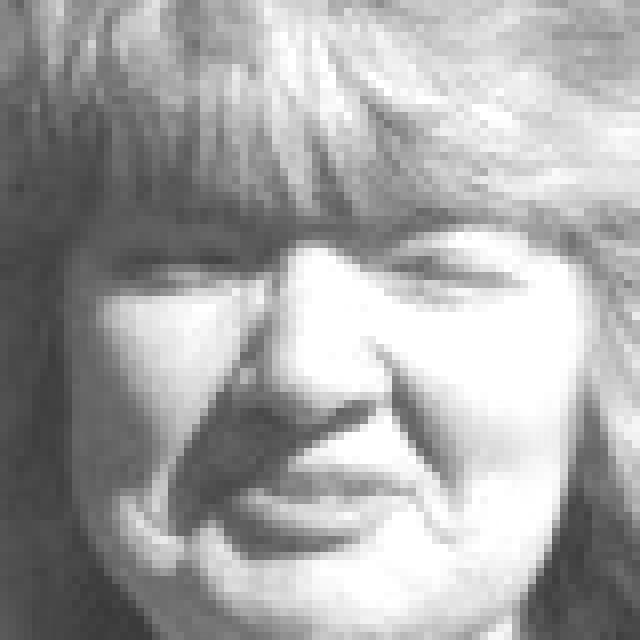real: (42, 0, 574, 629), (129, 206, 537, 300)
